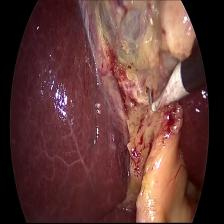Hook: (142, 52, 189, 118)
